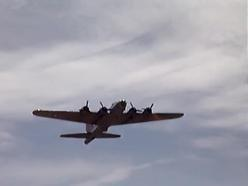aircraft: (32, 99, 184, 145)
